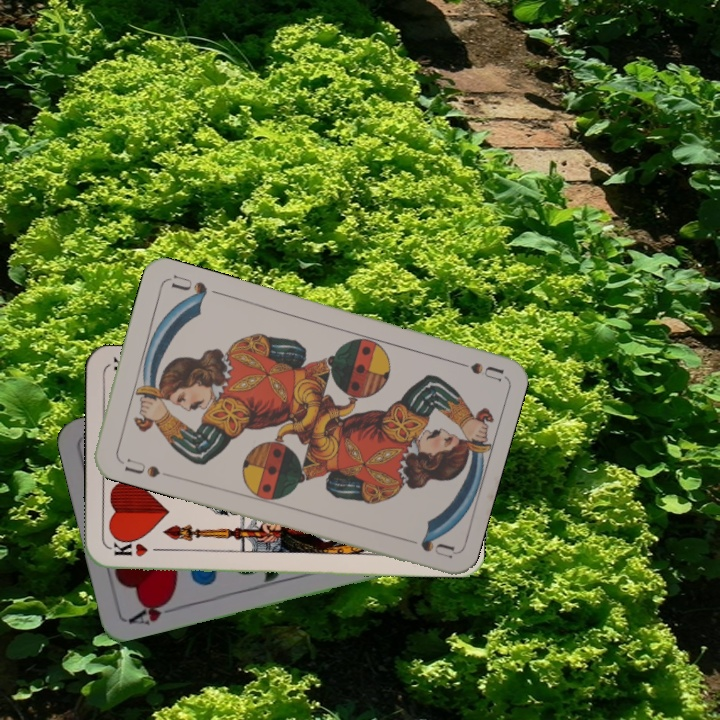HA: (125, 593, 184, 628)
HK: (109, 538, 168, 560)
SU: (445, 355, 505, 383), (114, 454, 163, 481)
